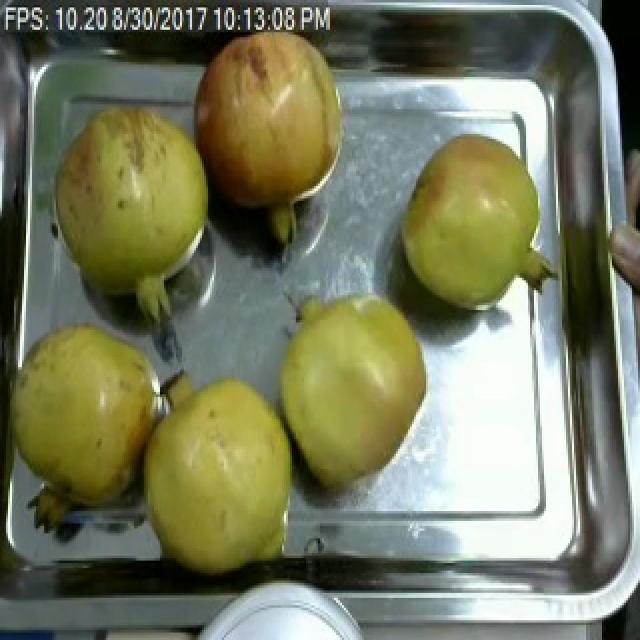fruit: (0, 295, 196, 541), (254, 270, 440, 501), (186, 5, 352, 238), (44, 97, 216, 310), (396, 124, 548, 320)
